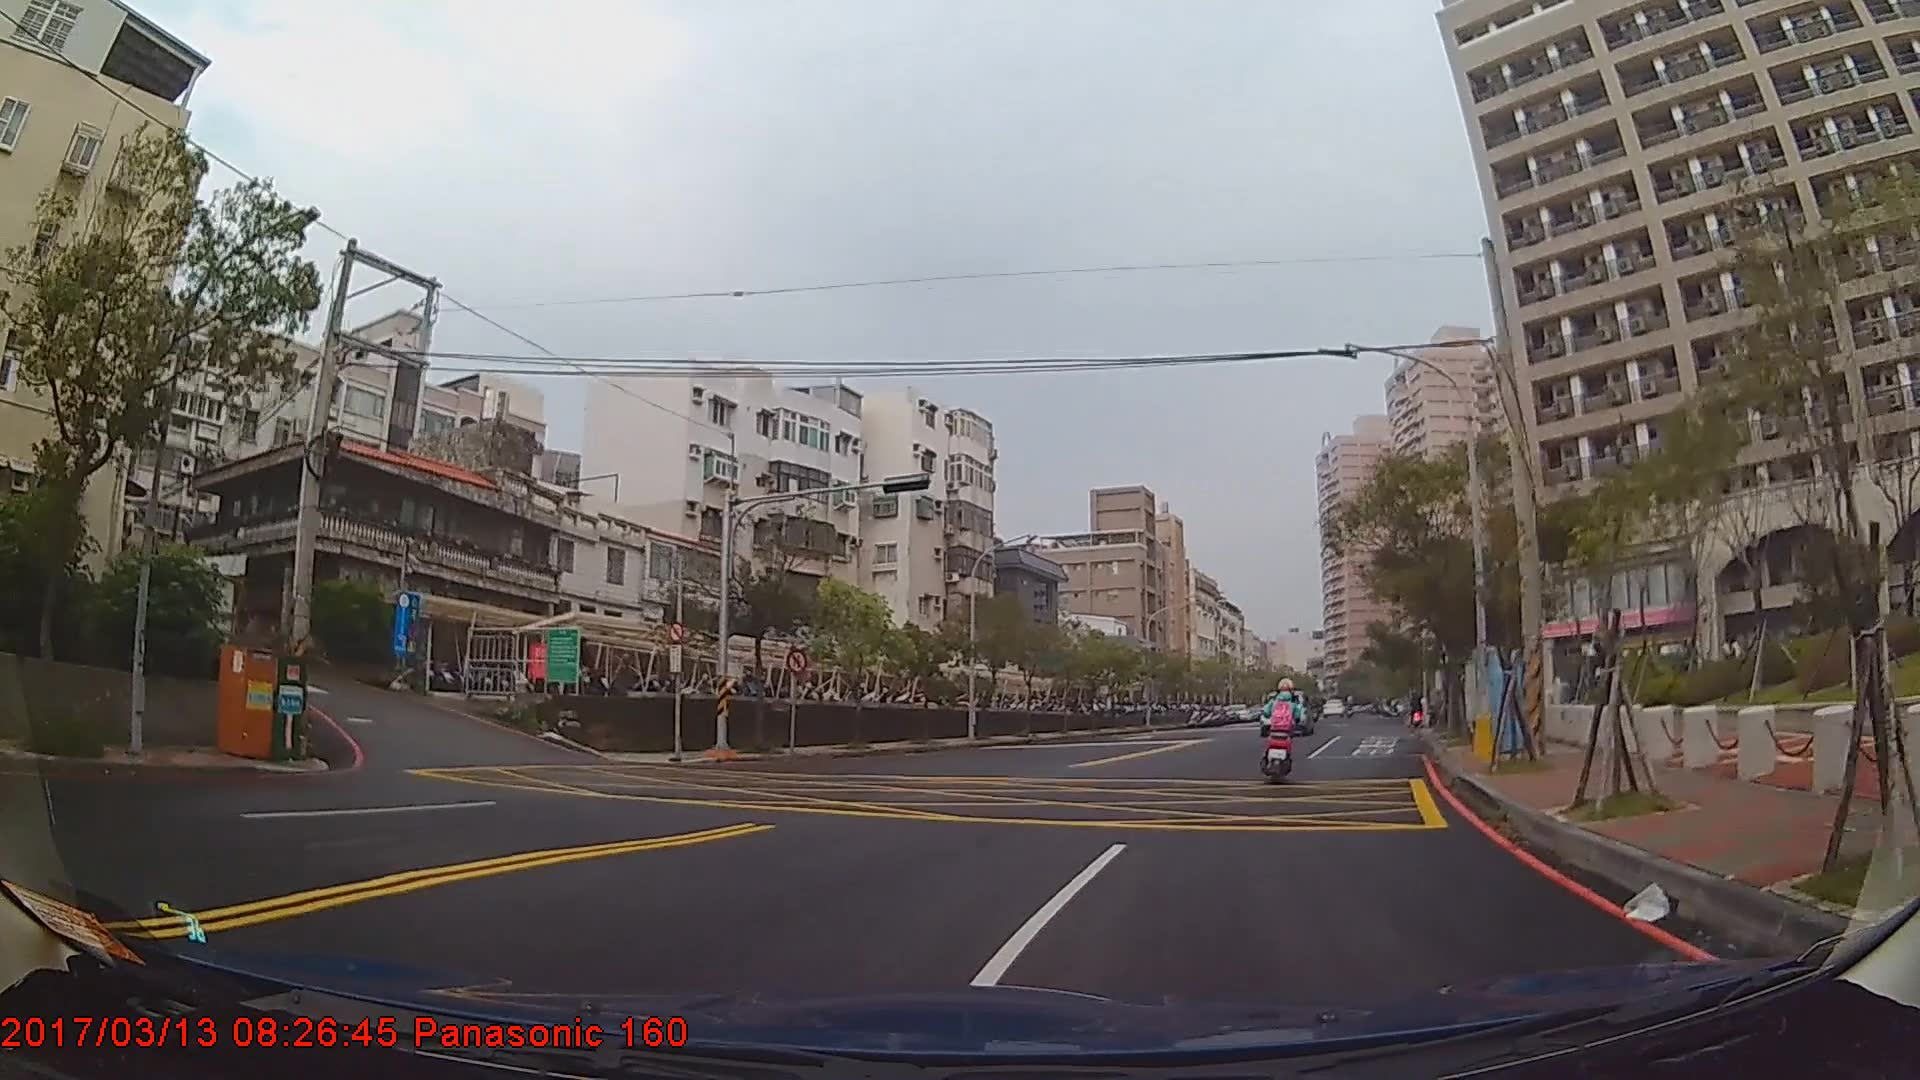rider: (1260, 679, 1307, 780)
vehicle: (1256, 687, 1315, 735)
